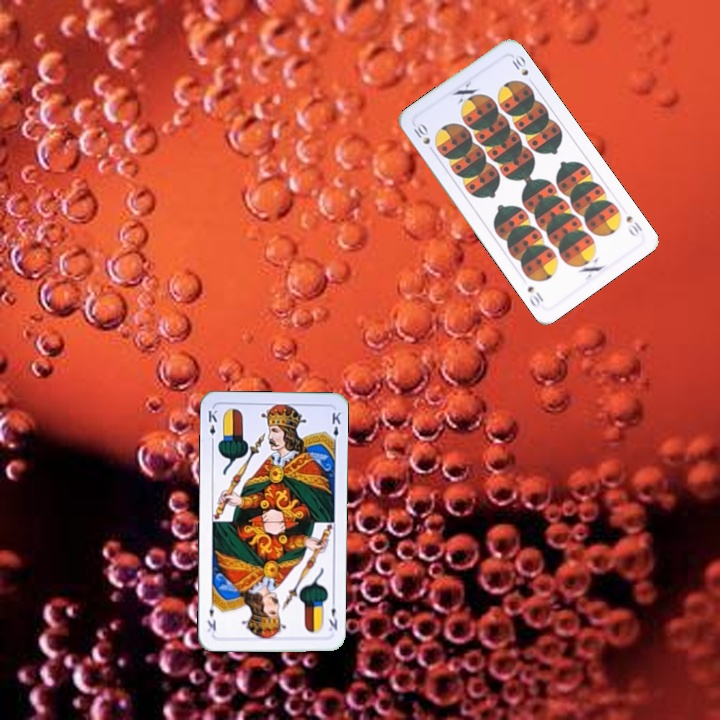EK: (204, 406, 219, 446), (325, 596, 340, 634)
S10: (409, 119, 433, 147), (622, 211, 645, 239)
